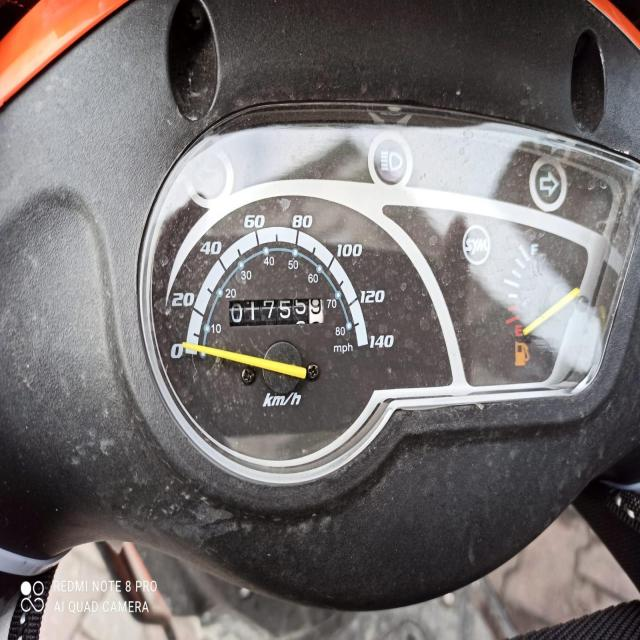odometer: (226, 297, 326, 332)
